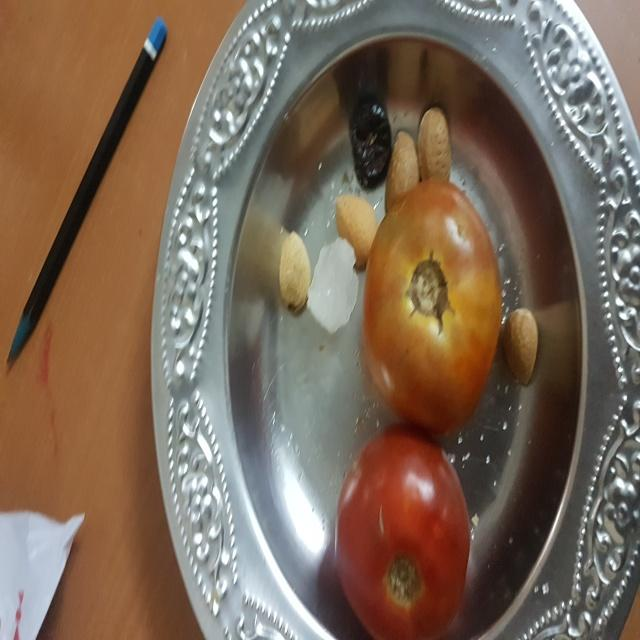tomato: (355, 172, 504, 436), (335, 427, 488, 636)
